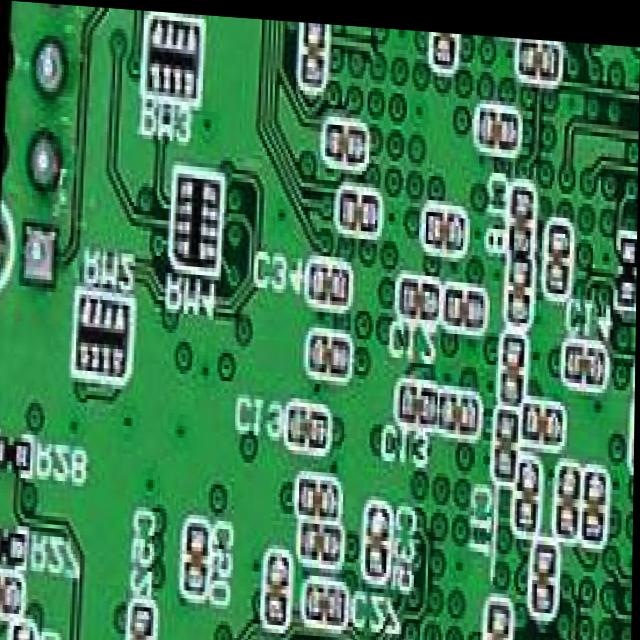capacitor: (417, 200, 466, 255), (471, 96, 518, 150), (262, 548, 293, 629), (291, 469, 340, 520), (512, 30, 561, 81), (181, 515, 210, 601), (497, 325, 526, 411), (305, 254, 350, 309), (553, 453, 582, 538), (280, 401, 329, 451), (437, 278, 486, 328), (304, 326, 351, 377), (559, 333, 606, 384), (436, 382, 480, 436), (318, 119, 365, 169), (542, 212, 571, 293), (513, 446, 540, 532), (296, 17, 327, 91), (491, 405, 520, 483), (519, 395, 564, 445), (396, 271, 440, 322), (295, 518, 342, 564), (304, 578, 346, 629), (394, 375, 436, 426), (365, 498, 391, 579), (336, 184, 378, 234), (502, 253, 531, 323), (529, 535, 555, 613), (510, 182, 534, 251), (482, 592, 510, 640), (429, 25, 457, 67), (127, 600, 156, 640), (0, 572, 23, 622), (628, 389, 636, 465), (9, 621, 37, 640), (489, 28, 536, 35), (631, 349, 636, 393)
electrolytic capacitor: (579, 458, 610, 540)
pins: (0, 0, 88, 329)
resistor: (140, 12, 202, 108), (166, 166, 221, 273), (72, 288, 131, 384), (613, 224, 635, 305), (0, 428, 34, 478), (0, 520, 29, 574)
